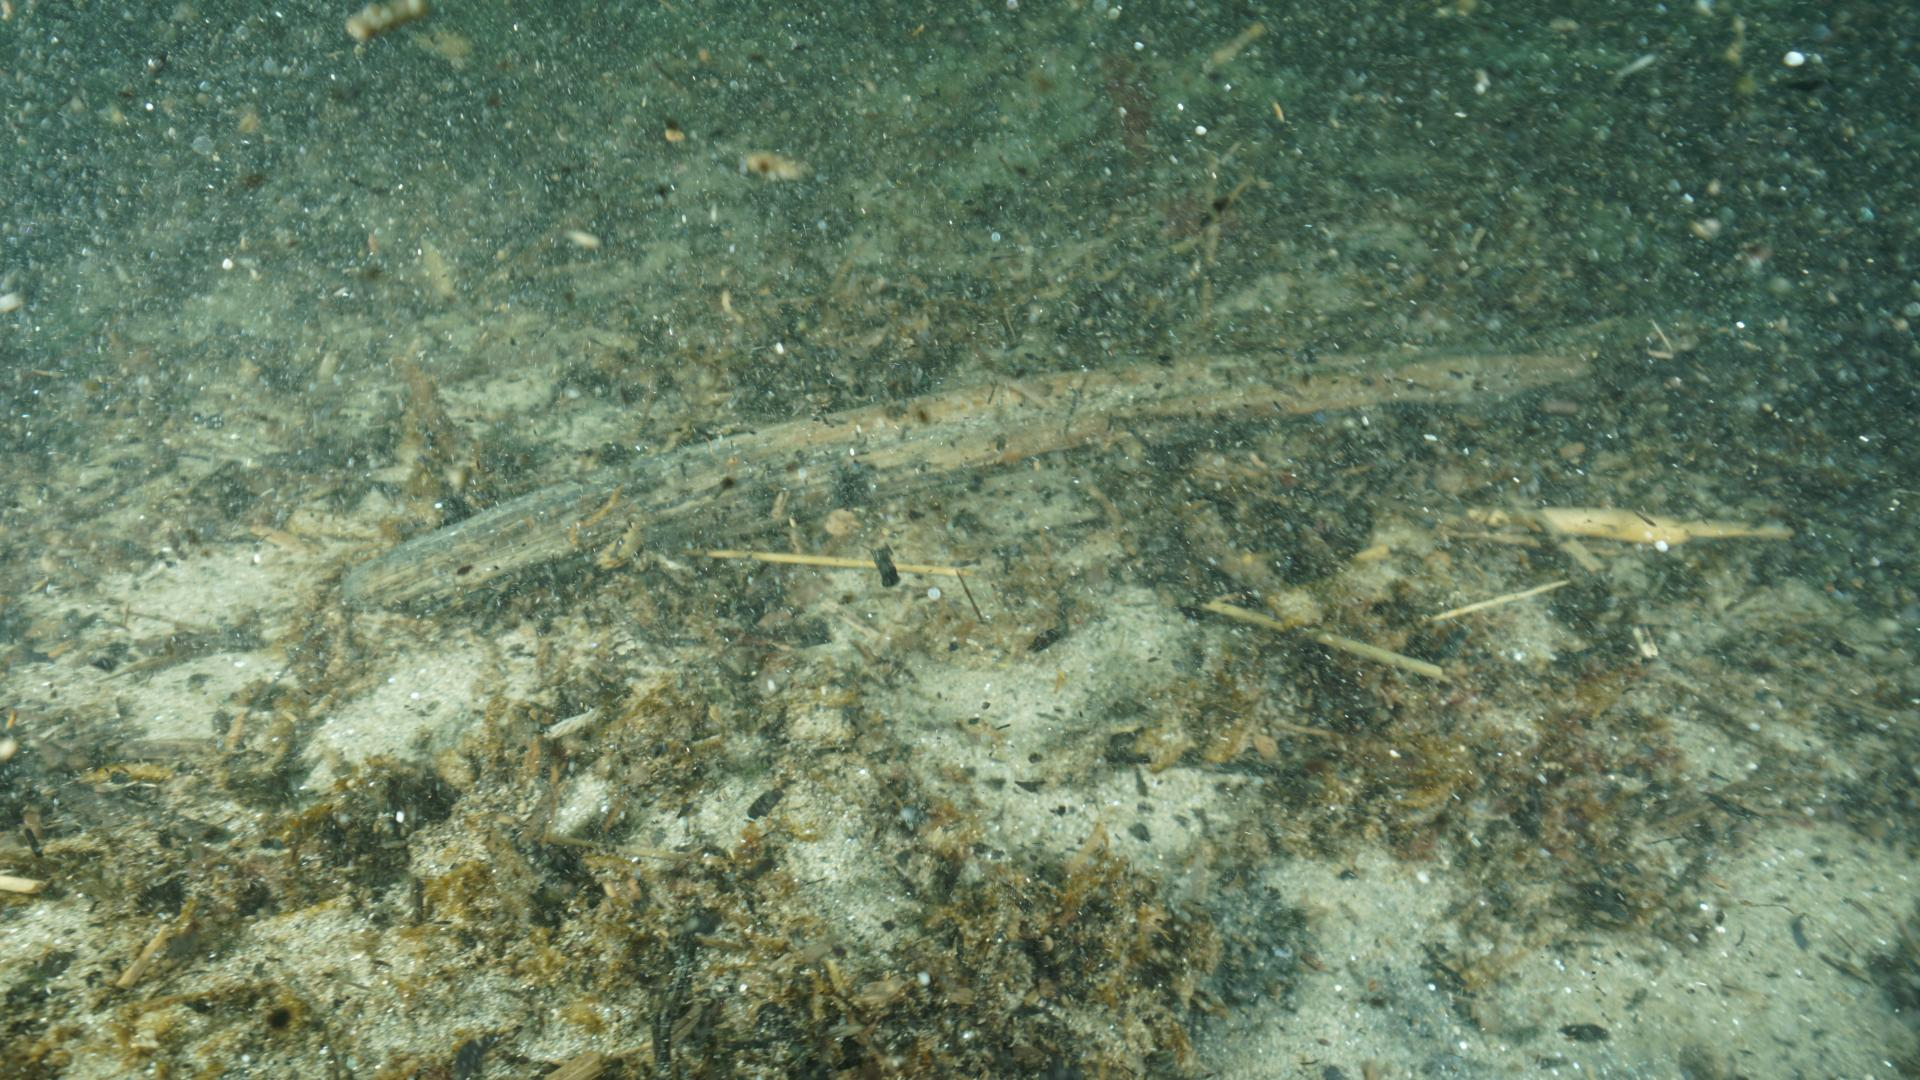wood: (342, 306, 1696, 609)
